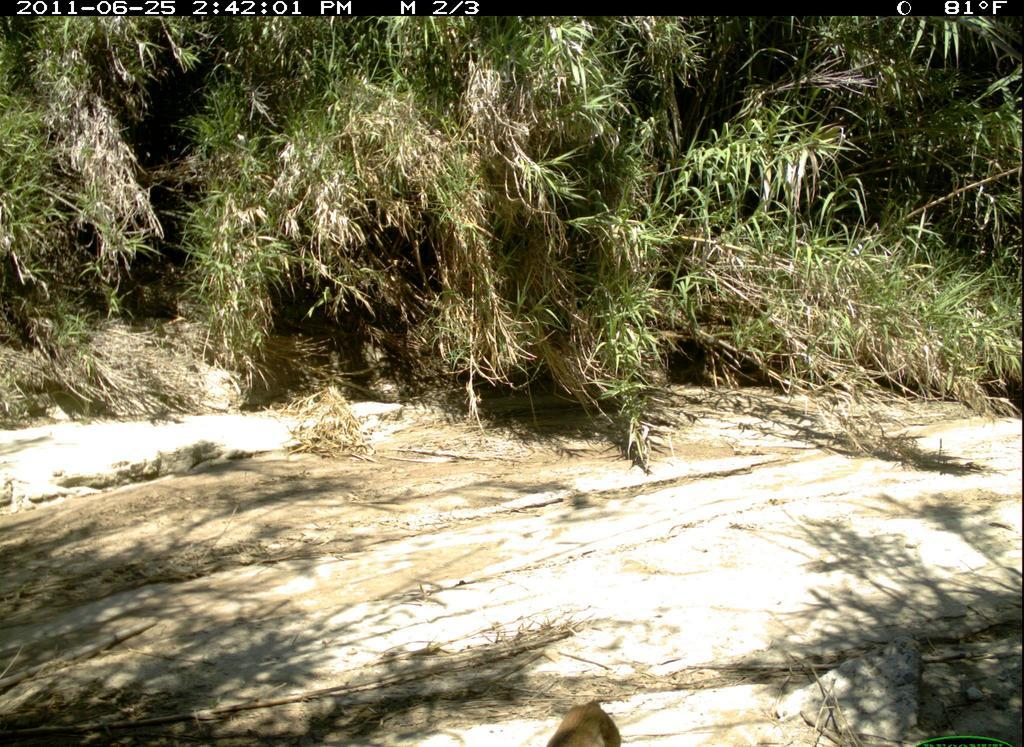bobcat: (536, 692, 631, 747)
